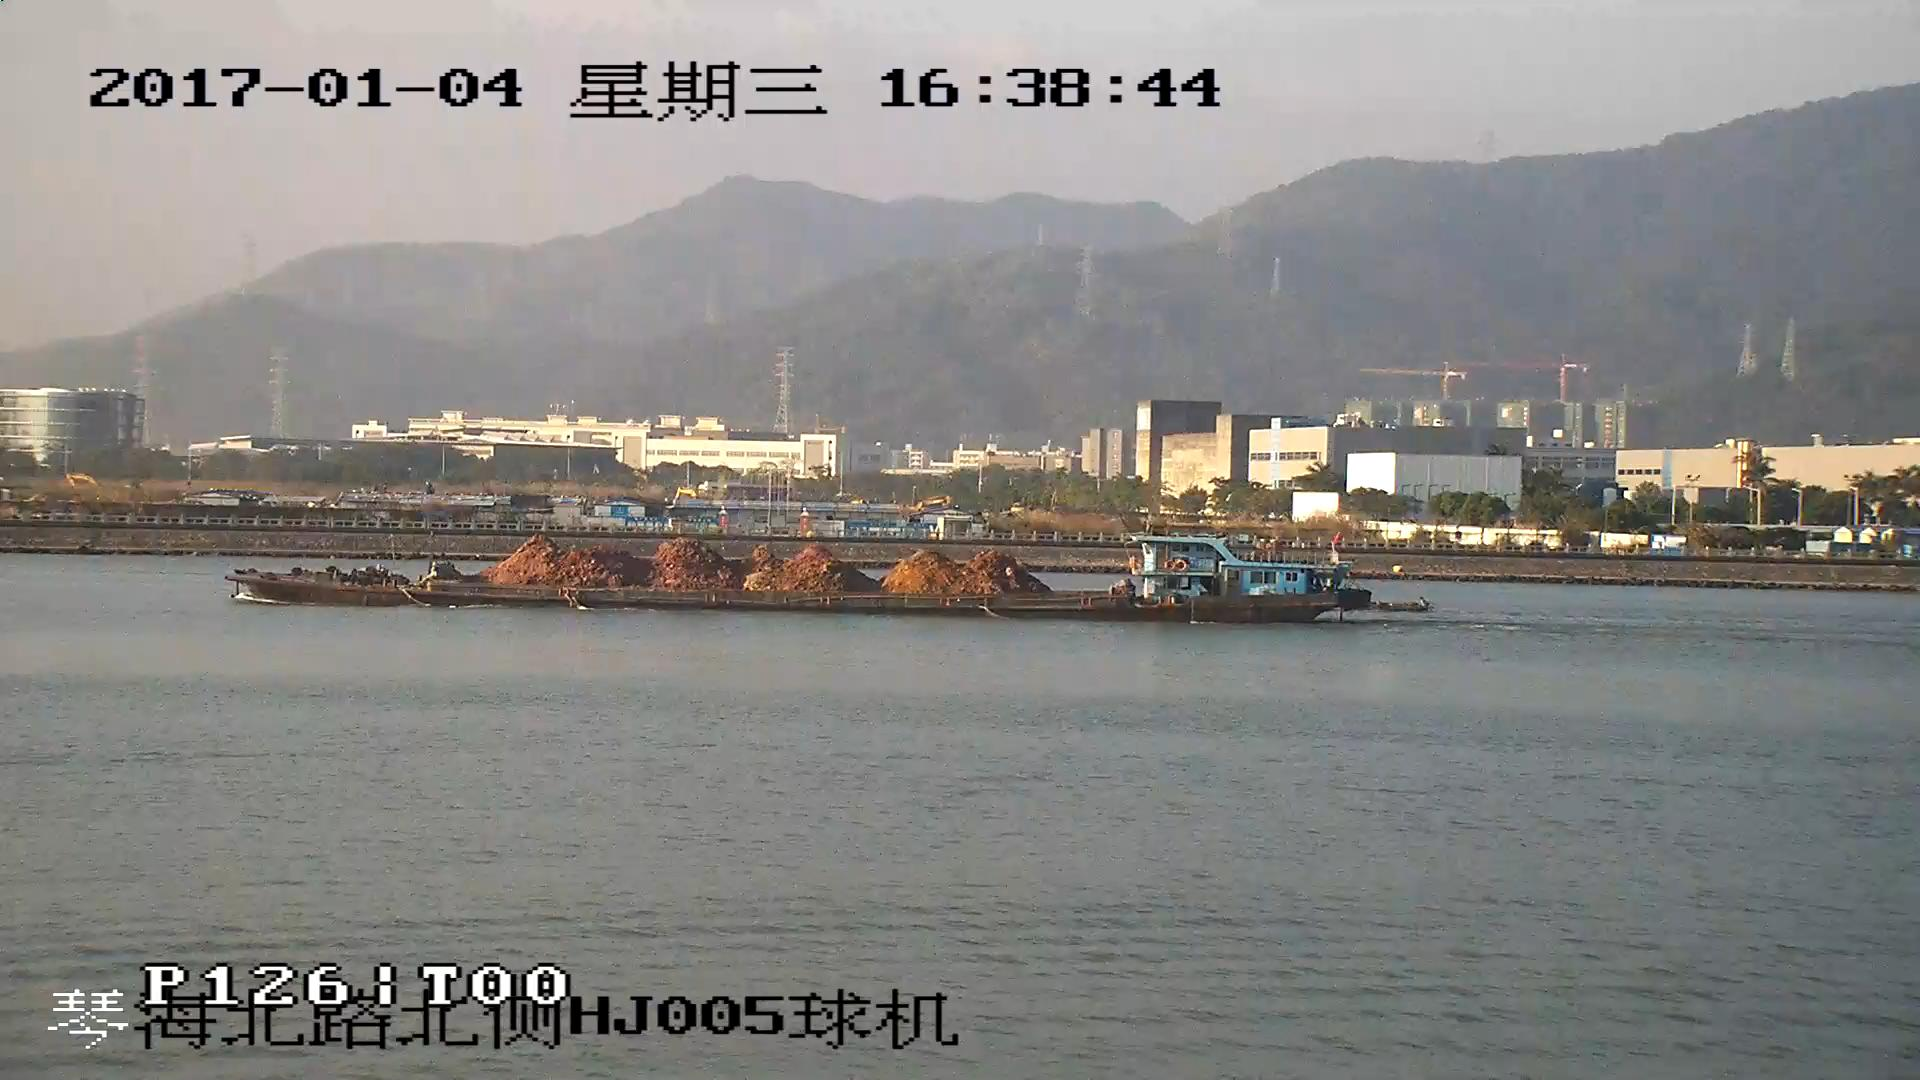ore carrier: (225, 535, 1357, 621)
